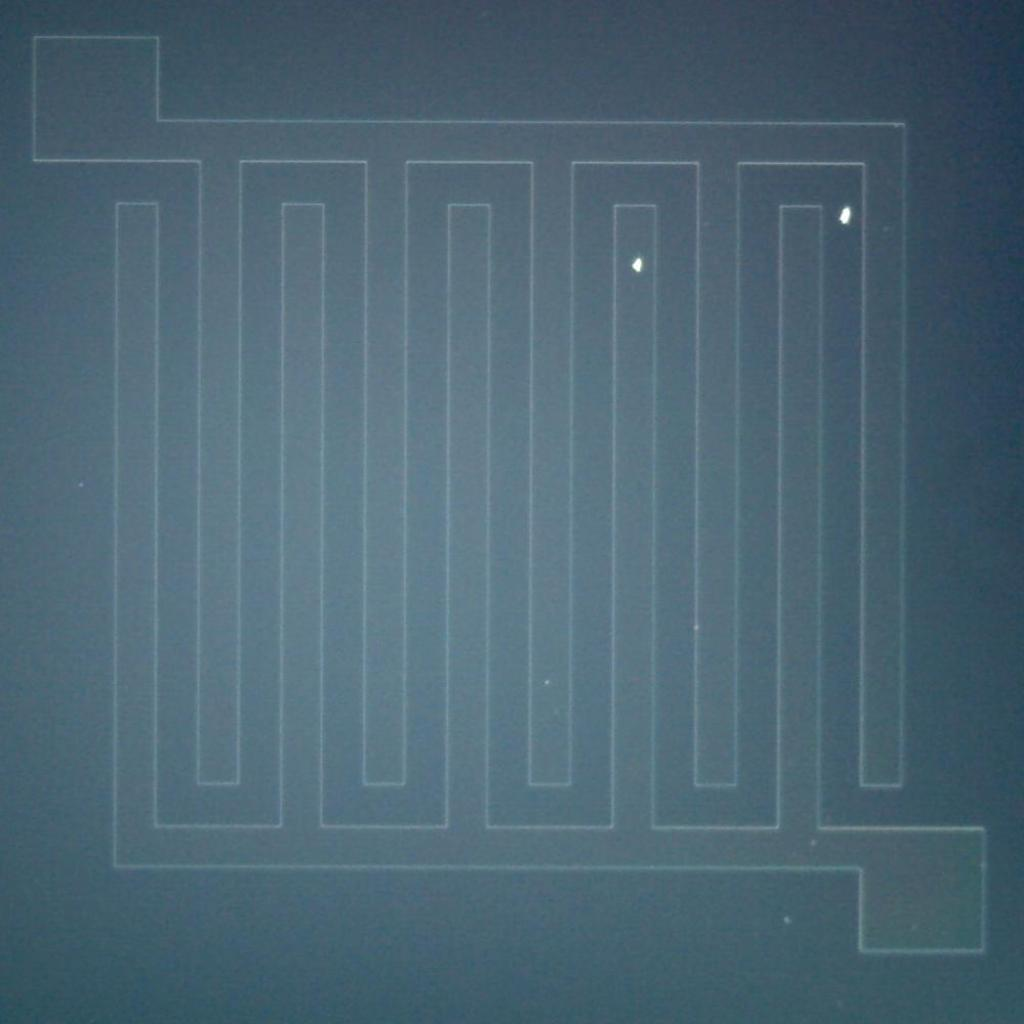dot: (835, 208, 852, 224), (631, 260, 643, 271), (784, 915, 792, 924), (810, 839, 818, 847), (78, 482, 84, 488), (694, 624, 699, 630), (544, 680, 550, 685), (894, 124, 898, 128)
